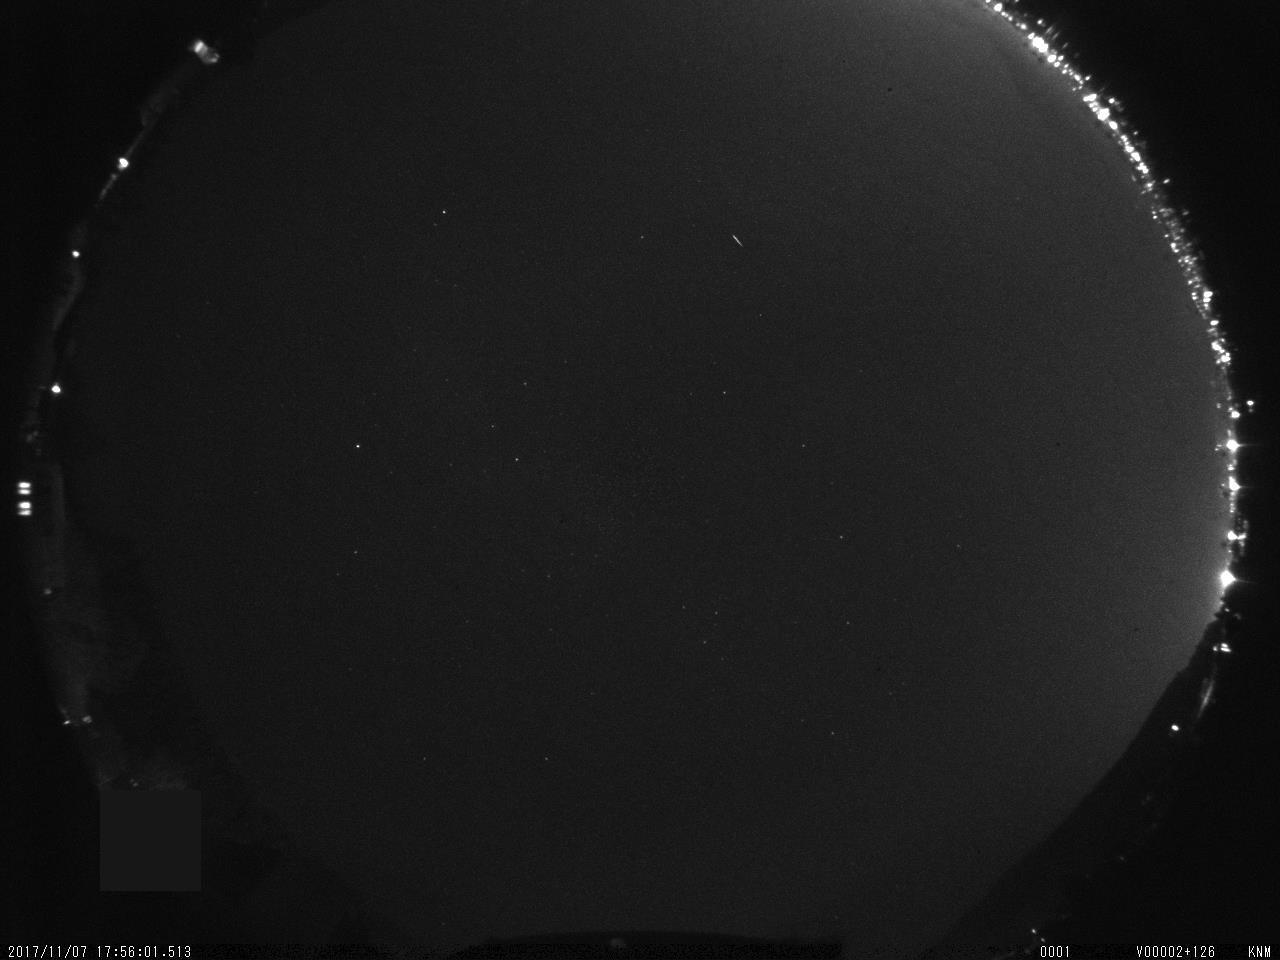Meteor: (728, 225, 752, 254)
